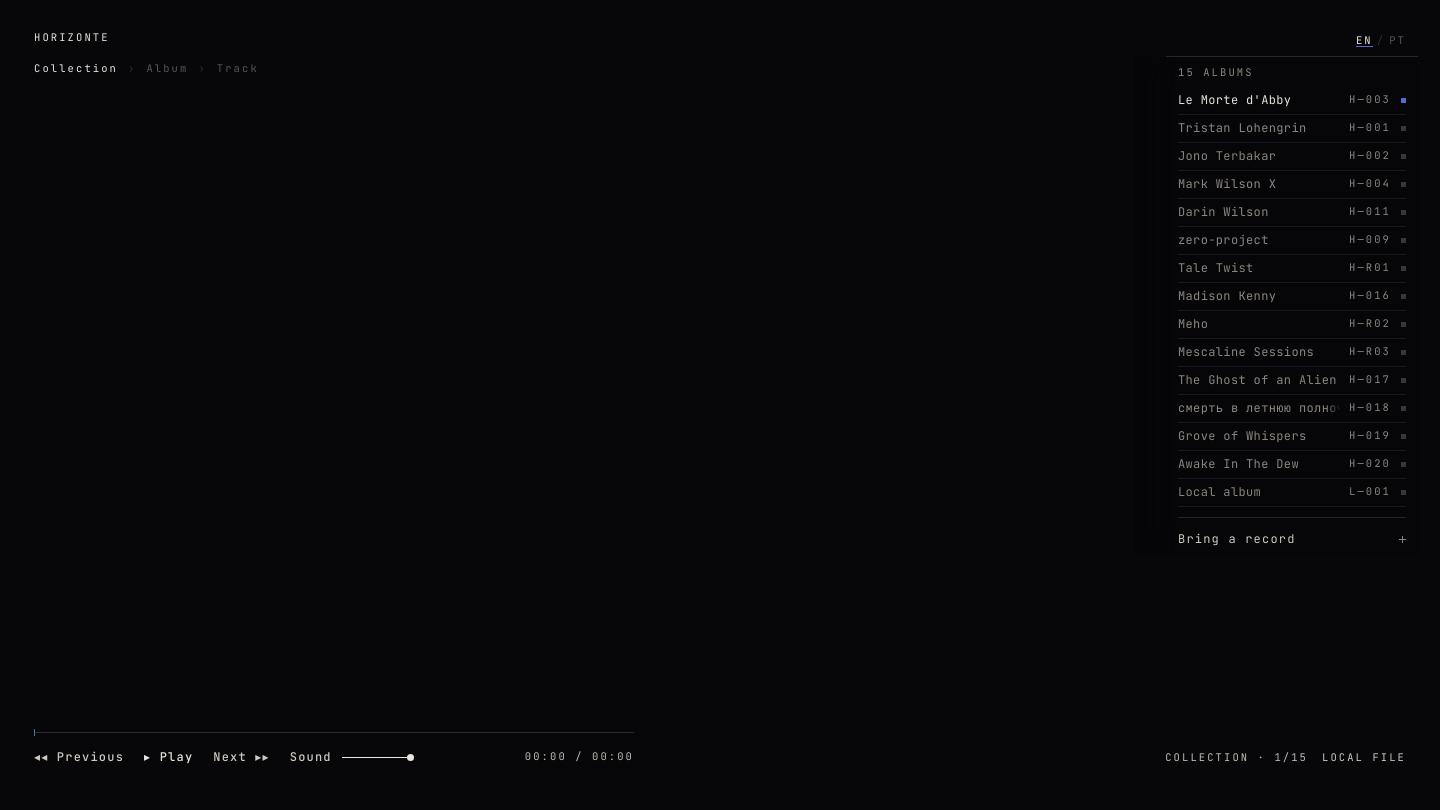
Test: the credit and local records › a local record without a name is renamed when the language changes
This screenshot has width=1440, height=810.
Expected: the link "Local file" is shown, [1322, 750, 1406, 764]
Click the button with aria-label "Português (Brasil)" at (1398,41), box [1389, 30, 1406, 52]
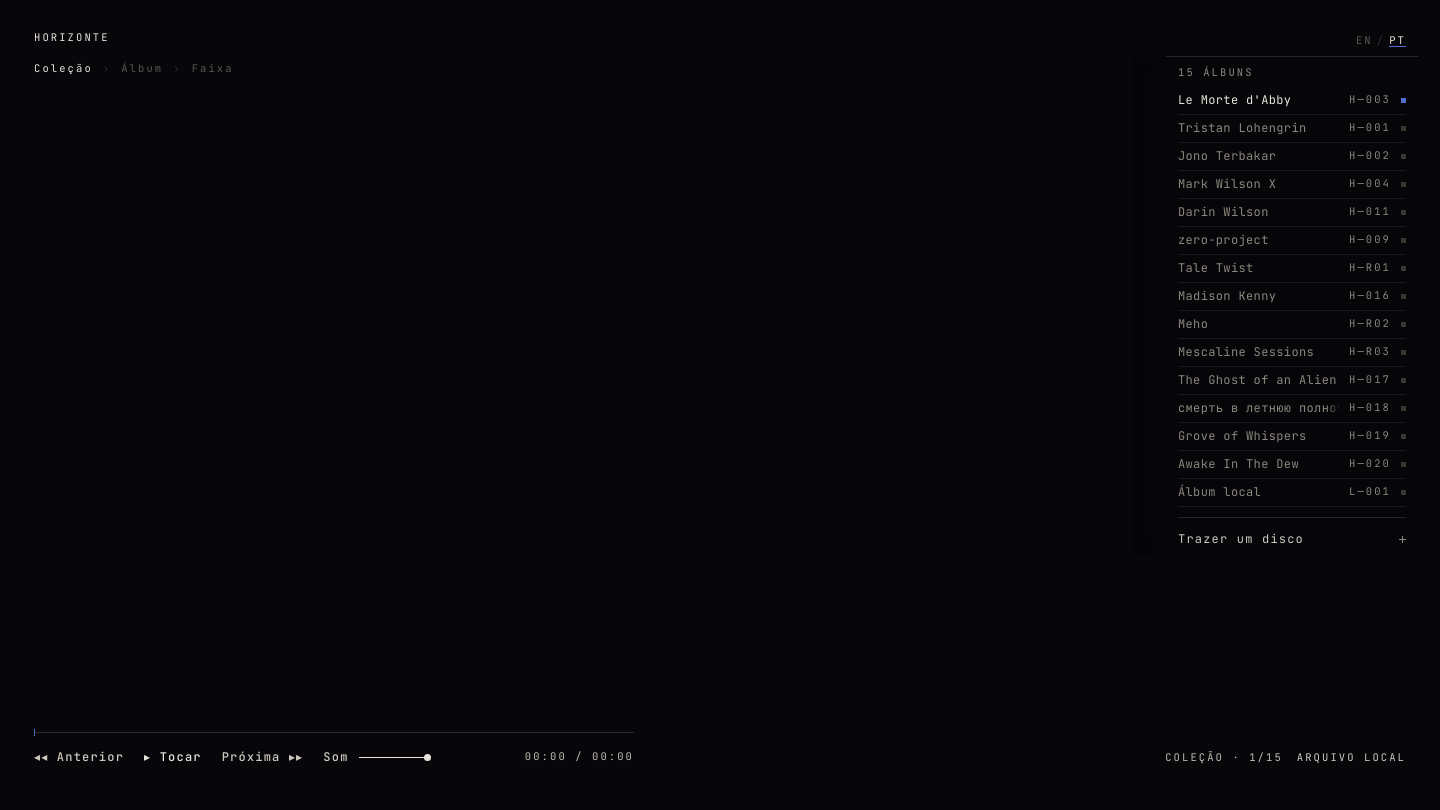
Expected: the text "Álbum local" is shown, [1178, 484, 1261, 500]
Expected: the link "Arquivo local" is shown, [1297, 750, 1406, 764]
